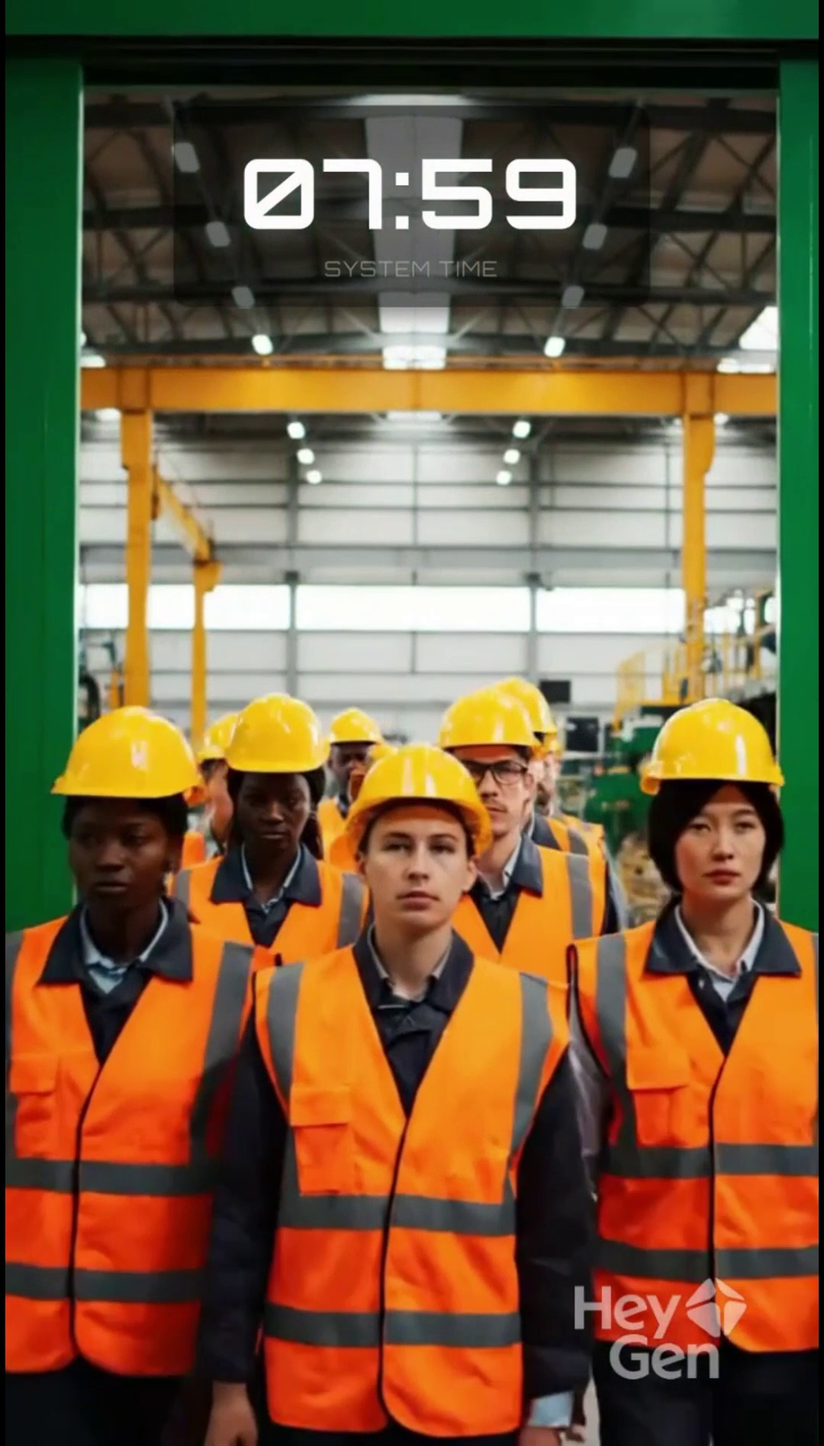Alena: (223, 720, 311, 875)
Amelie: (41, 733, 186, 930)
Ibtihel: (356, 766, 480, 942)
Insaf: (649, 728, 784, 946)
Mohamed: (475, 695, 542, 837)
porte_verte: (0, 16, 819, 585)
temp: (16, 673, 223, 1430), (611, 711, 824, 1424), (176, 97, 666, 317), (342, 759, 487, 1446), (464, 590, 604, 909), (207, 697, 344, 987)
